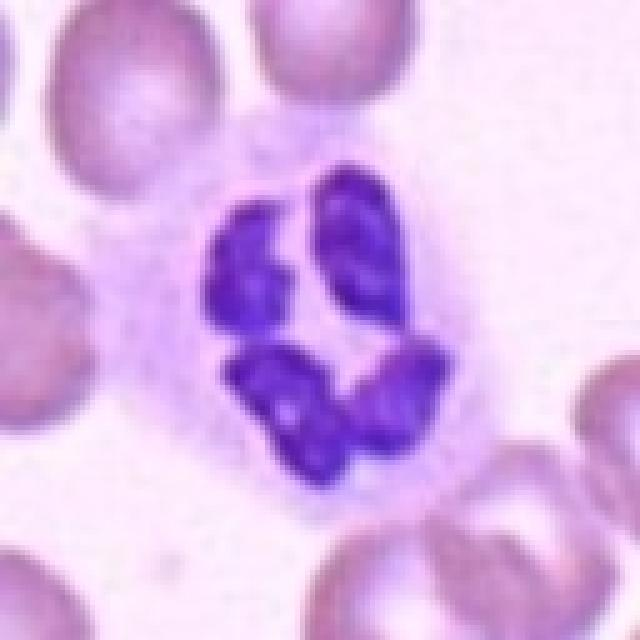neutro: (110, 108, 558, 501)
